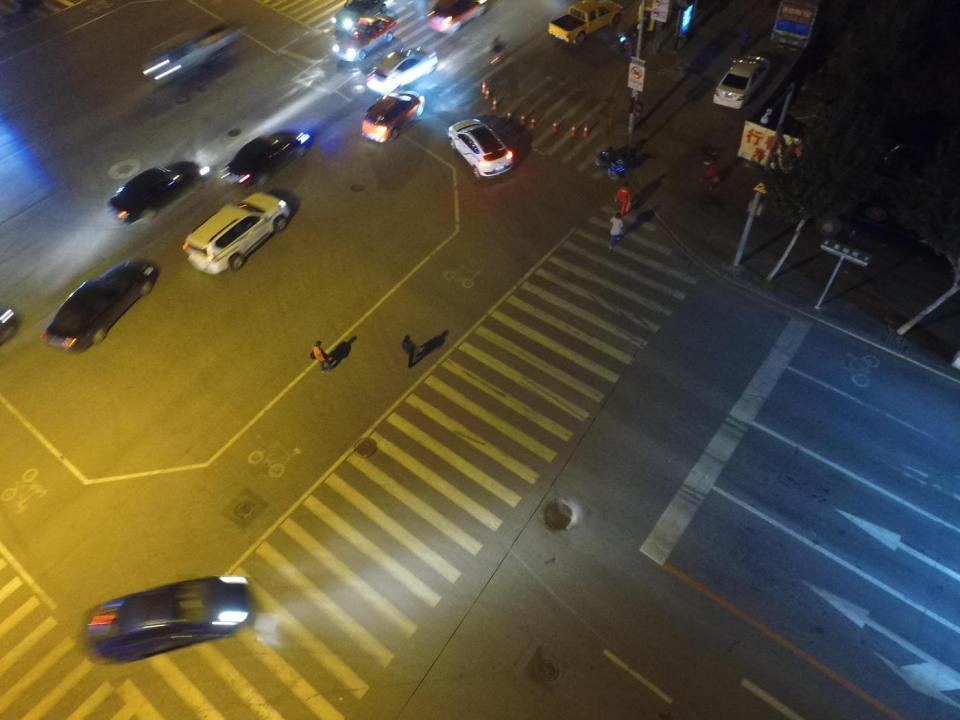bus: (821, 191, 960, 286)
car: (87, 572, 249, 667), (45, 255, 155, 356), (183, 191, 289, 275), (105, 158, 199, 225), (150, 19, 242, 85), (228, 125, 313, 190), (445, 119, 514, 179), (358, 92, 427, 143), (334, 13, 402, 63), (713, 52, 771, 107), (363, 48, 437, 91), (425, 0, 491, 34), (333, 0, 398, 25)
truck: (549, 0, 623, 44)
